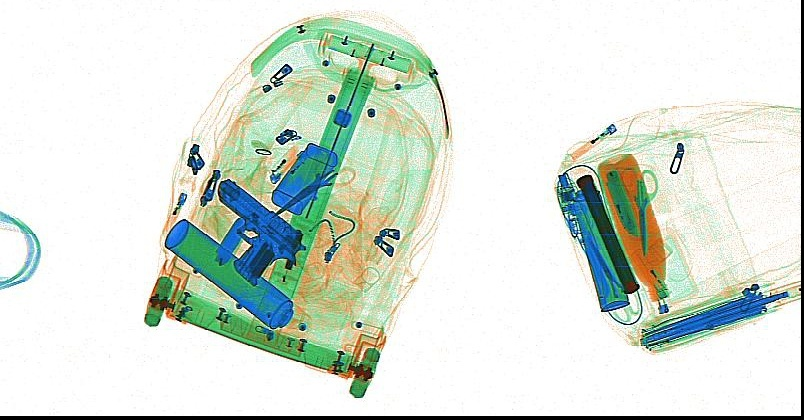knife: (603, 168, 641, 237), (210, 210, 253, 268)
lighter: (571, 123, 618, 159), (269, 141, 301, 184)
pressure: (164, 217, 294, 330), (572, 187, 630, 311)
scissors: (269, 153, 356, 215), (585, 232, 642, 322), (619, 164, 659, 257)
zippooil: (269, 141, 338, 216)
